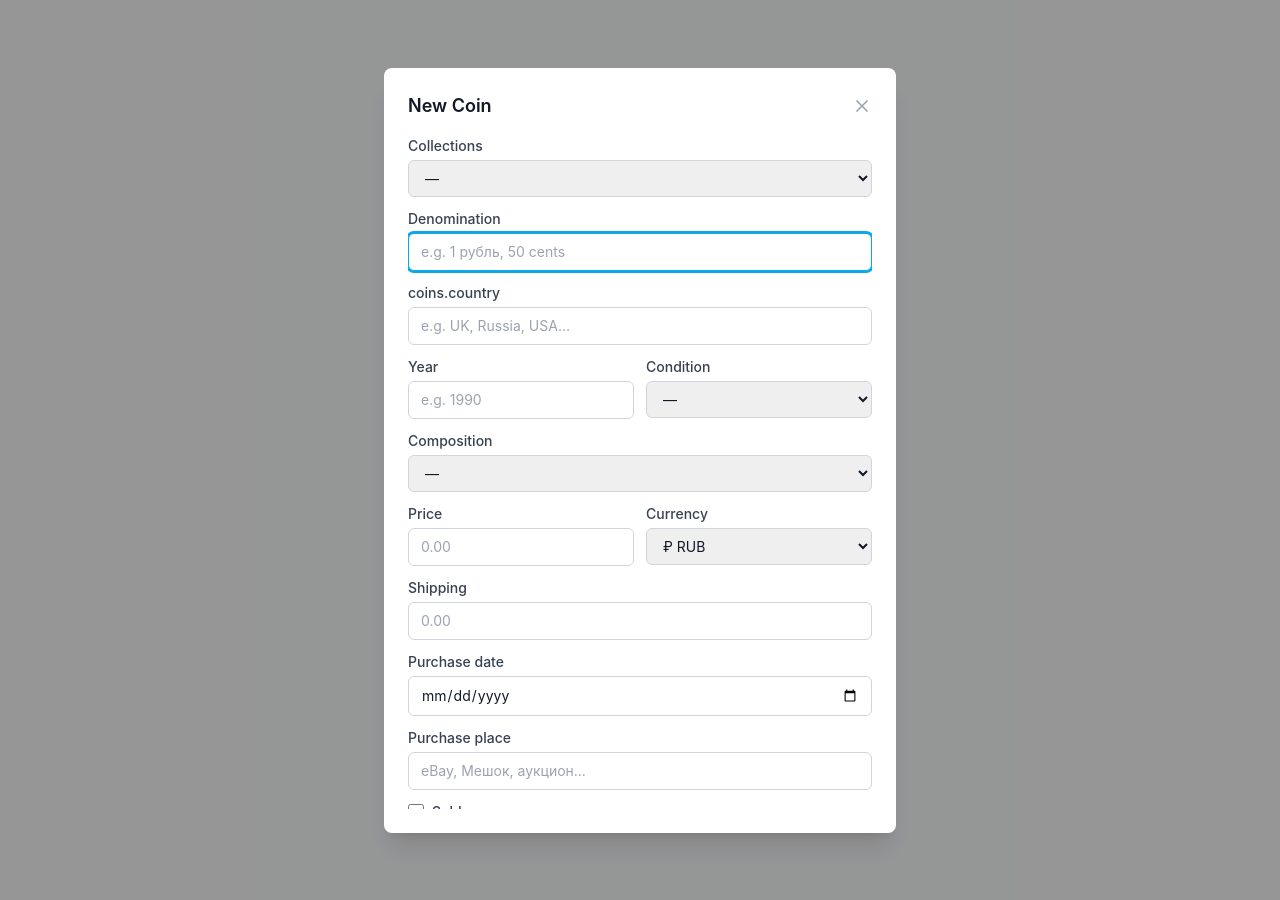
CoinForm › shows error when collection is not selected
The width and height of the screenshot is (1280, 900).
Type "10 рублей" into the field with placeholder "e.g. 1 рубль, 50 cents".
click(640, 252); type("10 рублей")  # box [408, 232, 872, 270]
(page scrolled)
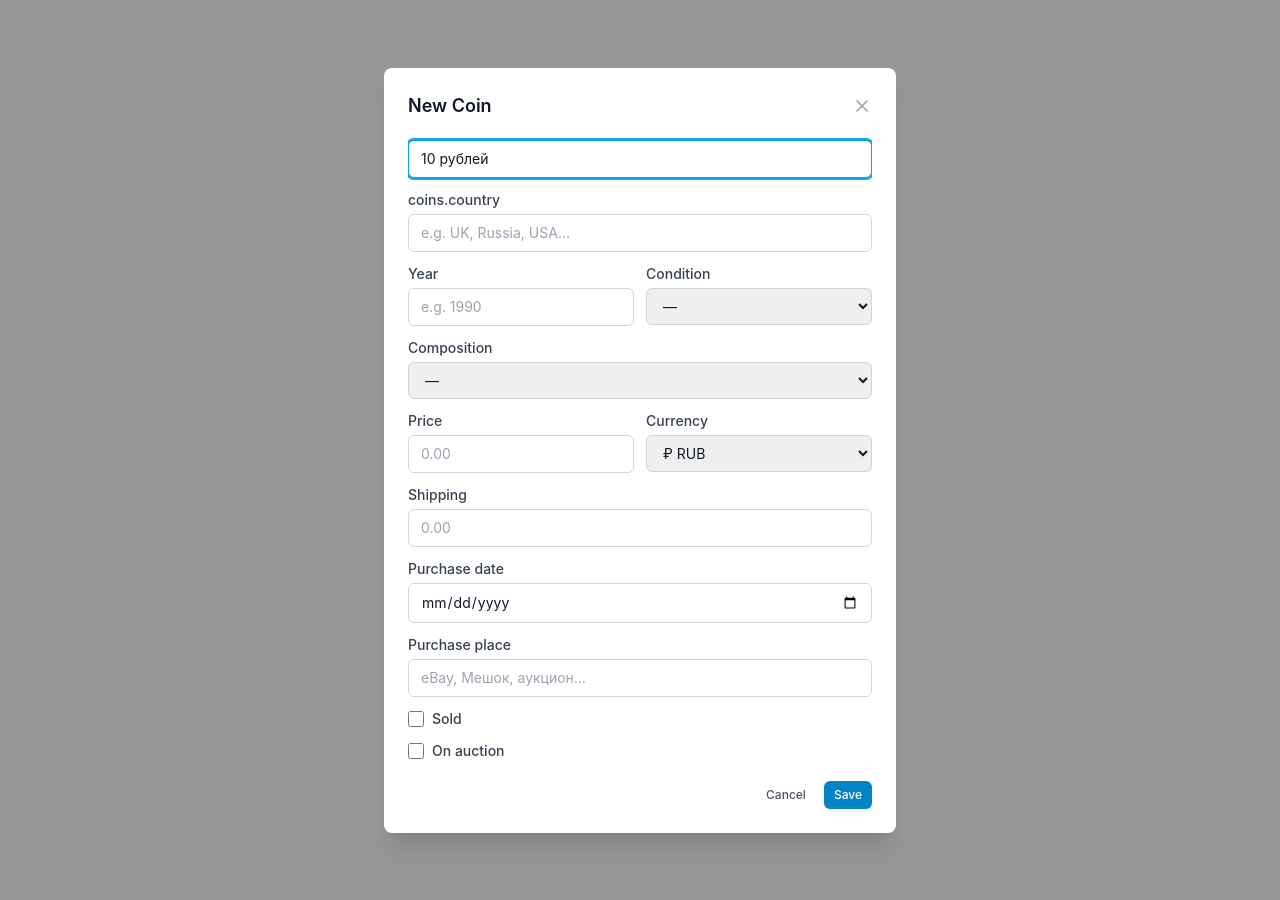
Click the button "Save".
click(848, 794)  # box [824, 780, 872, 808]
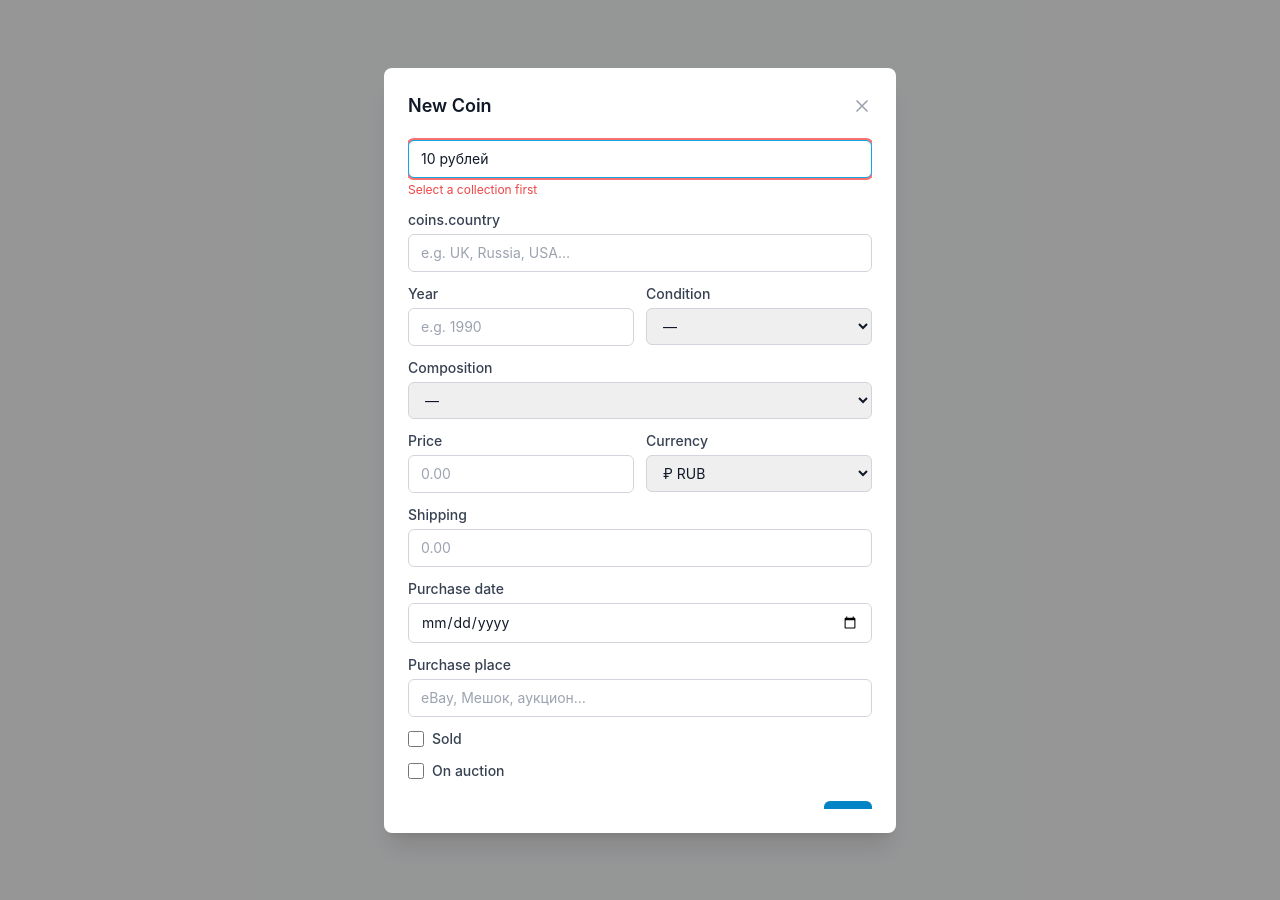
expect the text "Select a collection first" is shown: met, box [408, 182, 537, 196]
